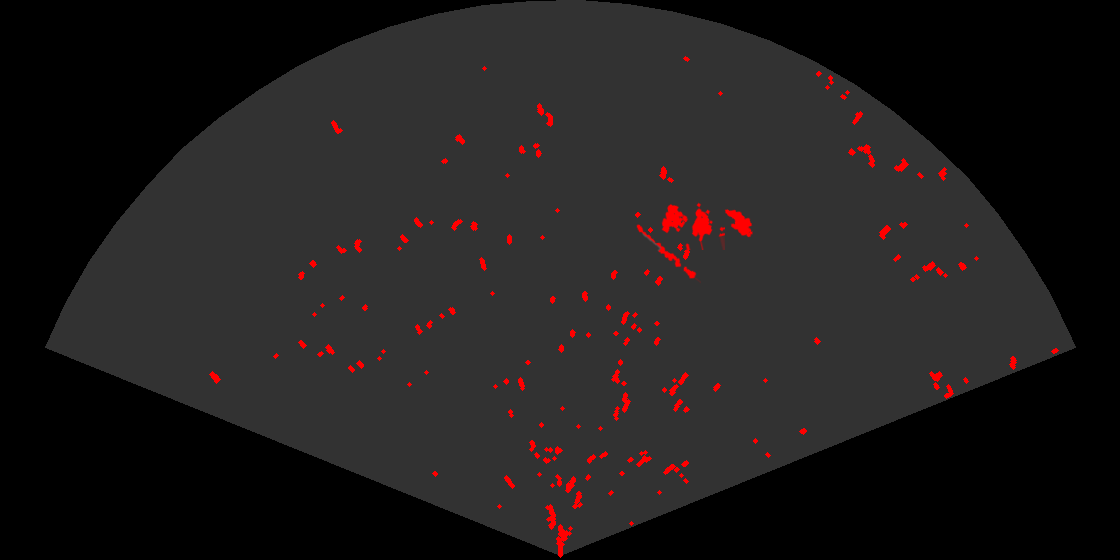AUV: (723, 208, 754, 239)
cage: (660, 201, 725, 250)
chain: (635, 223, 701, 285)
